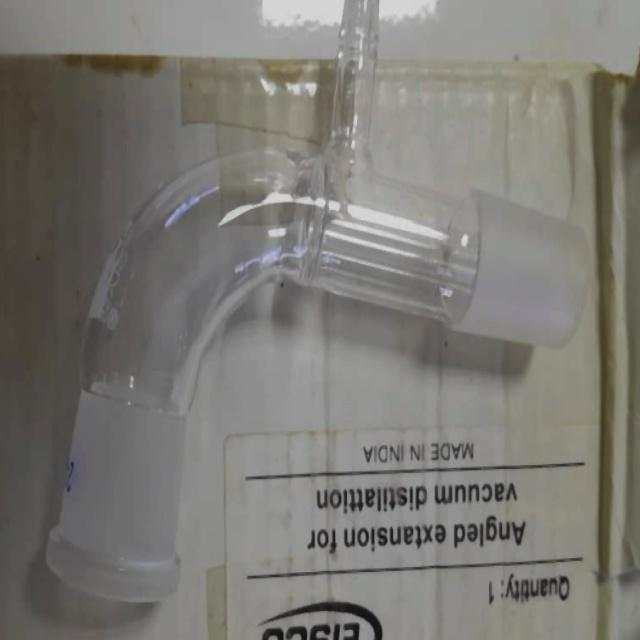Angled Extension for Vacuum Distillation: (42, 2, 595, 608)
